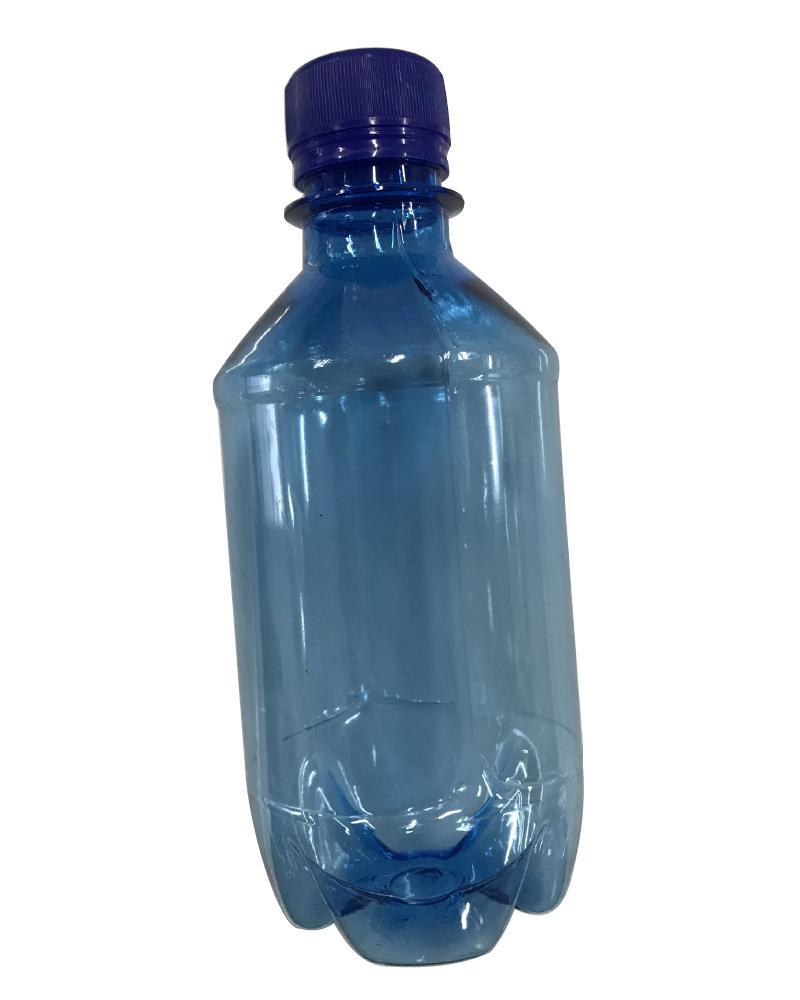bottle: (206, 36, 594, 972)
